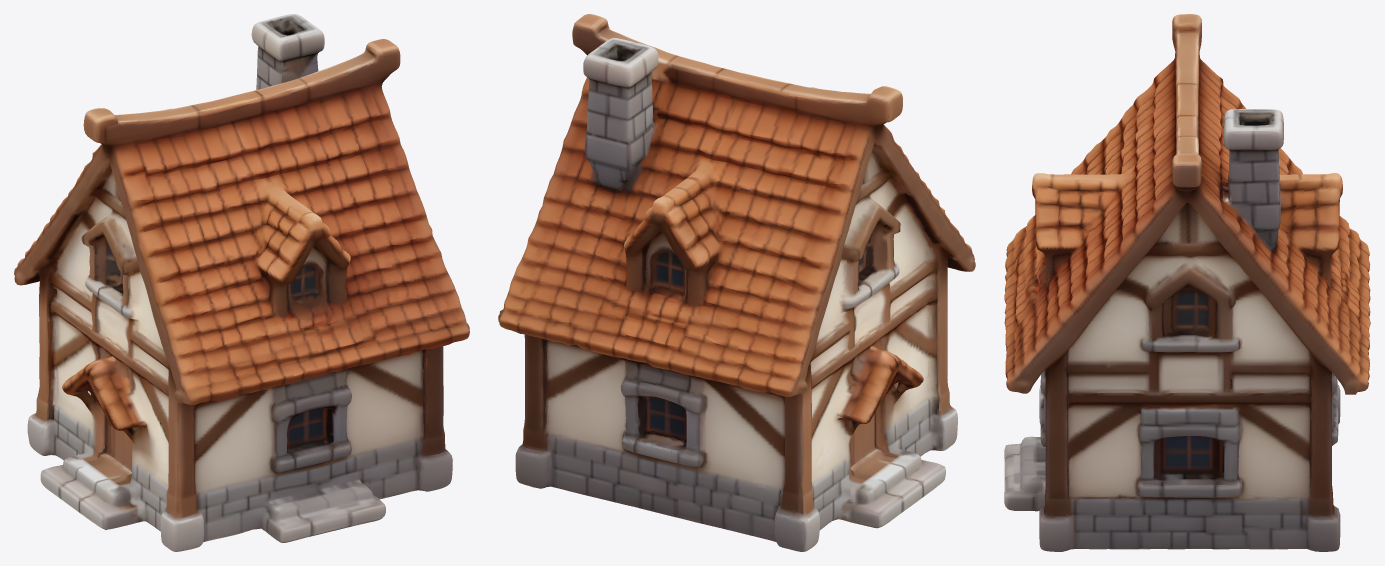
File: base_basic_shaded.fbx
The picture shows the model from 3 angles, left to right: view 1: azimuth 30°, elevation 25°; view 2: azimuth 150°, elevation 25°; view 3: azimuth 270°, elevation 25°; orthographic projection. The views are drawn at different scales.
Parts seen in each view (by area): view 1: model; view 2: model; view 3: model.
Part boxes in pixels (left/top/right/bottom): model: left=14, top=14, right=469, bottom=551; model: left=498, top=14, right=975, bottom=551; model: left=1004, top=14, right=1370, bottom=551.
Size of the model in its own units: 162 by 191 by 156.
